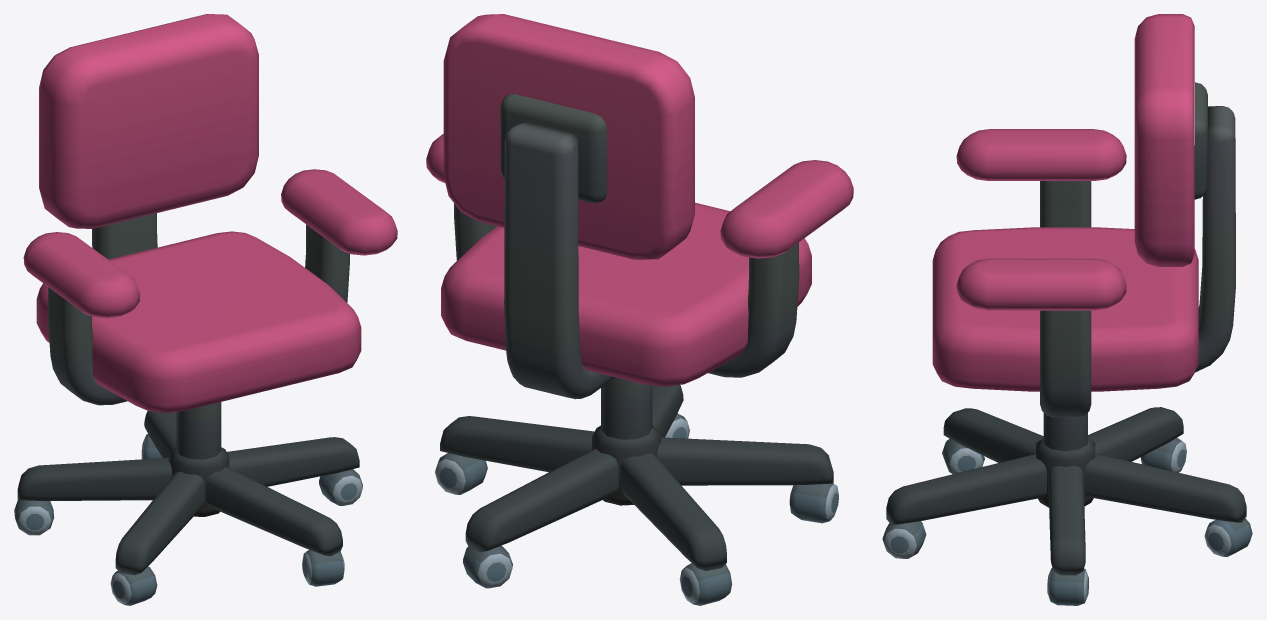
File: Chair_PC_04.glb
The picture shows the model from 3 angles, left to right: view 1: azimuth 30°, elevation 25°; view 2: azimuth 150°, elevation 25°; view 3: azimuth 270°, elevation 25°; orthographic projection. The views are drawn at different scales.
Parts seen in each view (by area): view 1: Chair_PC_04; view 2: Chair_PC_04; view 3: Chair_PC_04.
Part boxes in pixels (box(x1,y1,x2,y2)): Chair_PC_04: box(14, 14, 397, 605); Chair_PC_04: box(426, 14, 853, 605); Chair_PC_04: box(882, 14, 1252, 605).
Bounding box in the file's own units: 0.7498 × 1.05 × 0.7323.
1 material, 1 textured.
